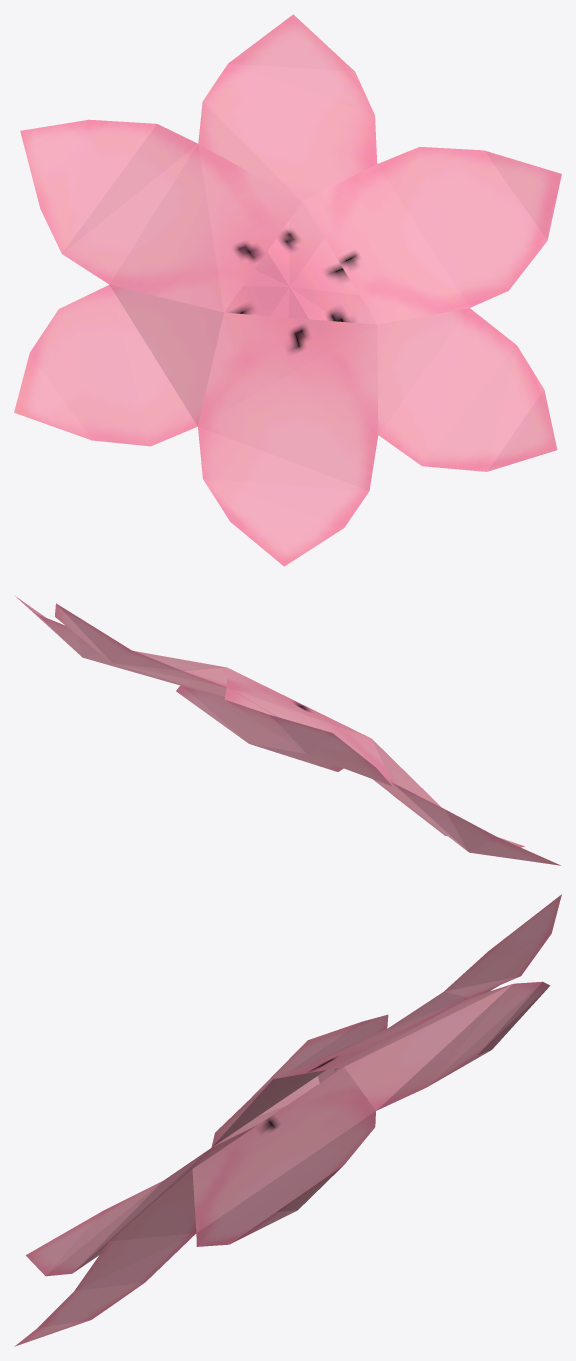
Rendered from BR_Shaymin.obj.
The picture shows the model from 3 angles, top to bottom: view 1: azimuth 30°, elevation 25°; view 2: azimuth 150°, elevation 25°; view 3: azimuth 270°, elevation 25°; orthographic projection. The views are drawn at different scales.
Visible parts, largest first — view 1: shaymin; view 2: shaymin; view 3: shaymin.
Part boxes in pixels (bbox=[...]): shaymin: bbox=[14, 14, 561, 566]; shaymin: bbox=[14, 595, 560, 865]; shaymin: bbox=[14, 894, 561, 1346].
Size of the model in its own units: 1.18 by 0.7099 by 0.8747.
Materials: 2 (2 with a texture image).
